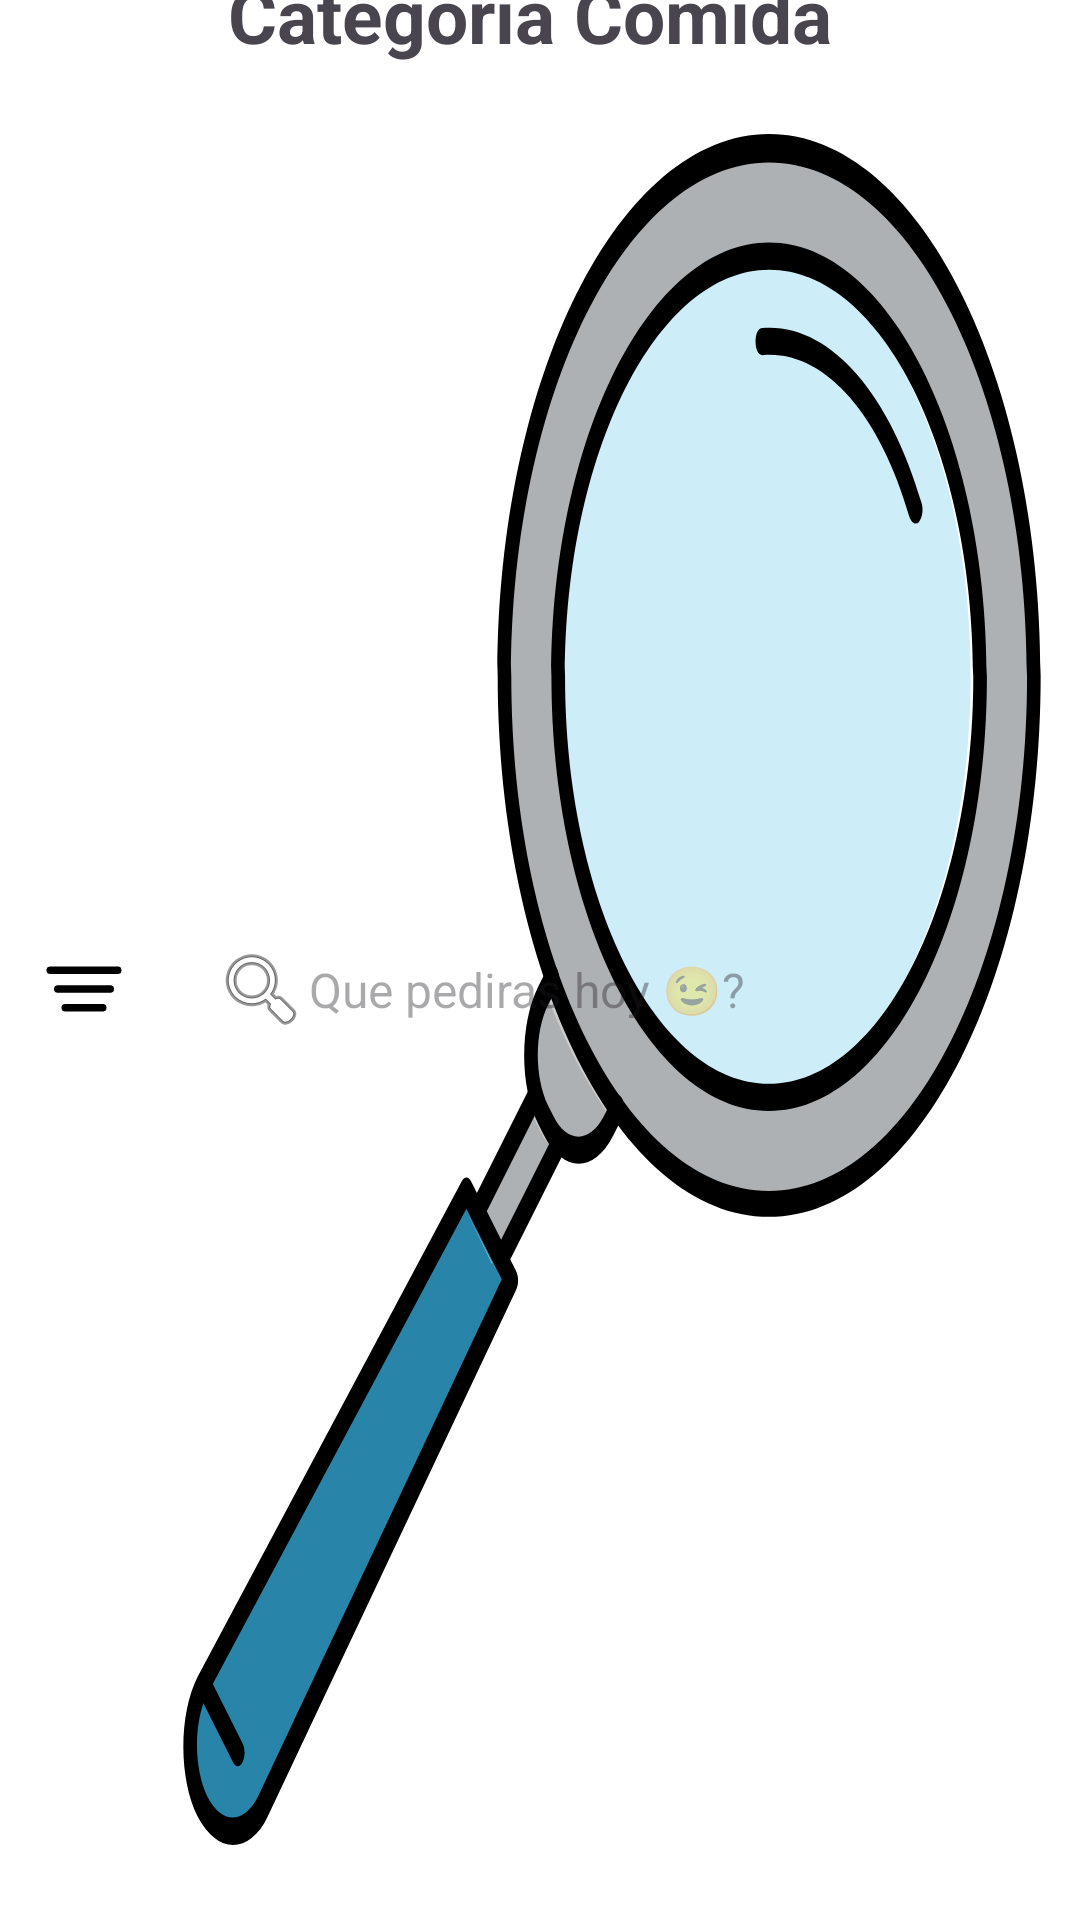

Named icons in this screenshot (1080x1920) and their bounding boxes, [x1, y1, x2, y2]:
Filtrar: [46, 966, 122, 1012]
